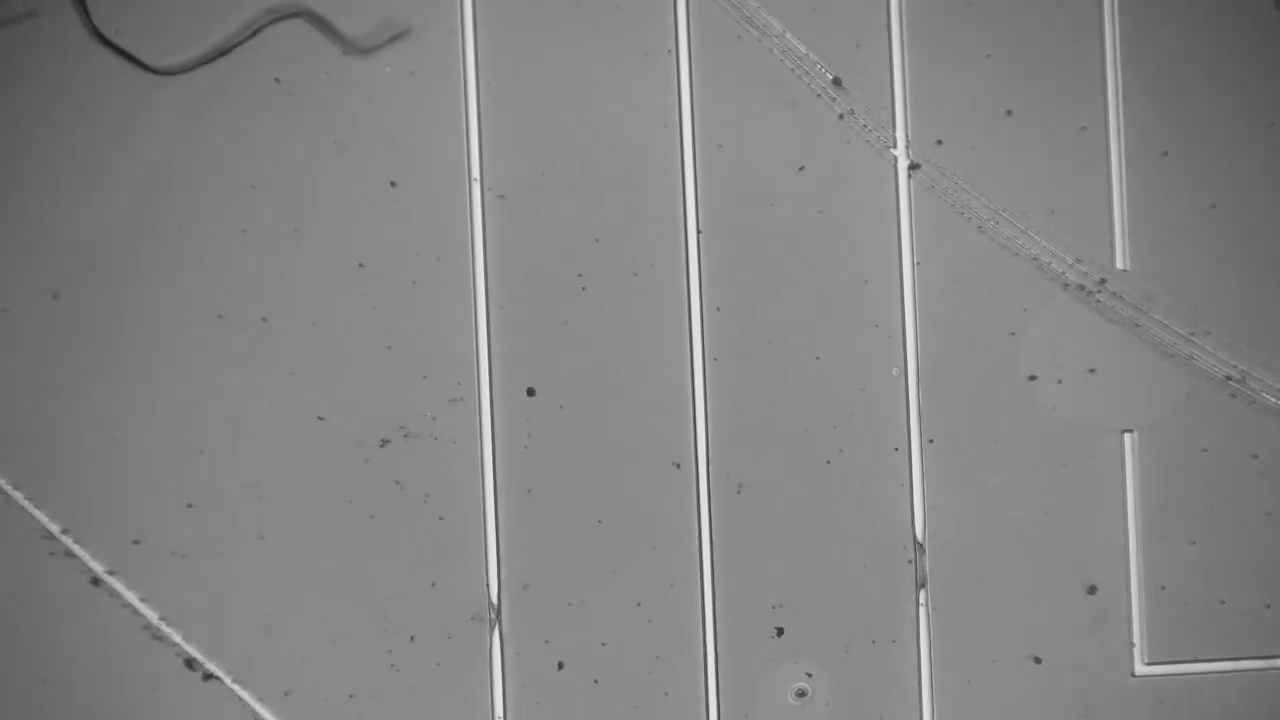gray_line: (896, 510, 949, 619), (475, 574, 525, 646)
open: (1081, 214, 1180, 471)
scratch: (718, 13, 1280, 426), (6, 482, 302, 720)
